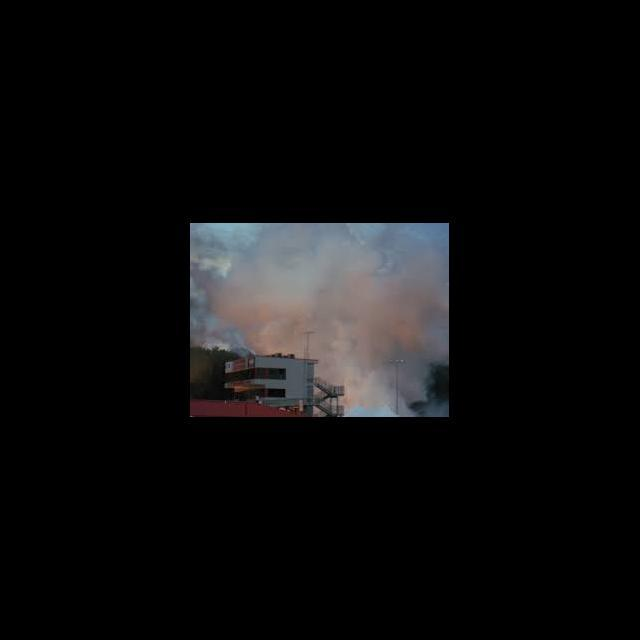Smoke: (192, 223, 448, 355), (344, 402, 398, 416)
